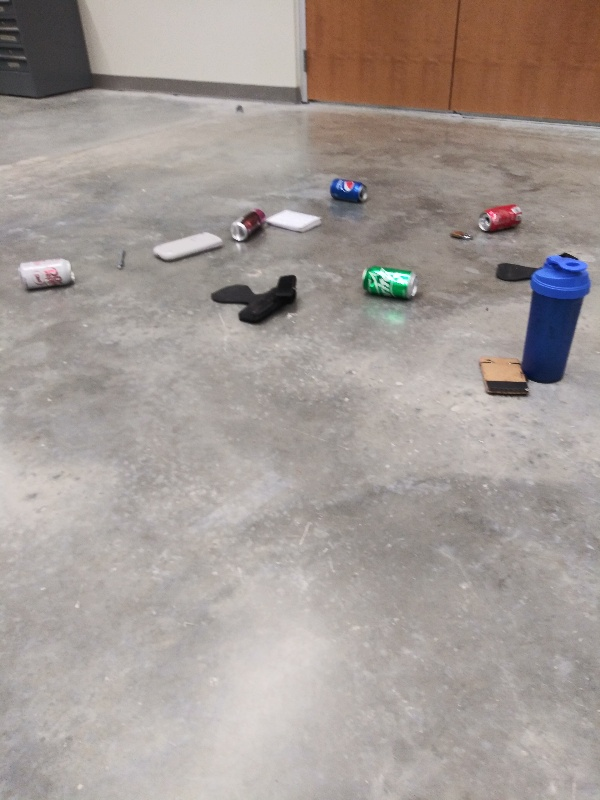can: (11, 256, 81, 296), (356, 263, 422, 303), (474, 201, 530, 238), (226, 207, 272, 247), (326, 175, 372, 208)
